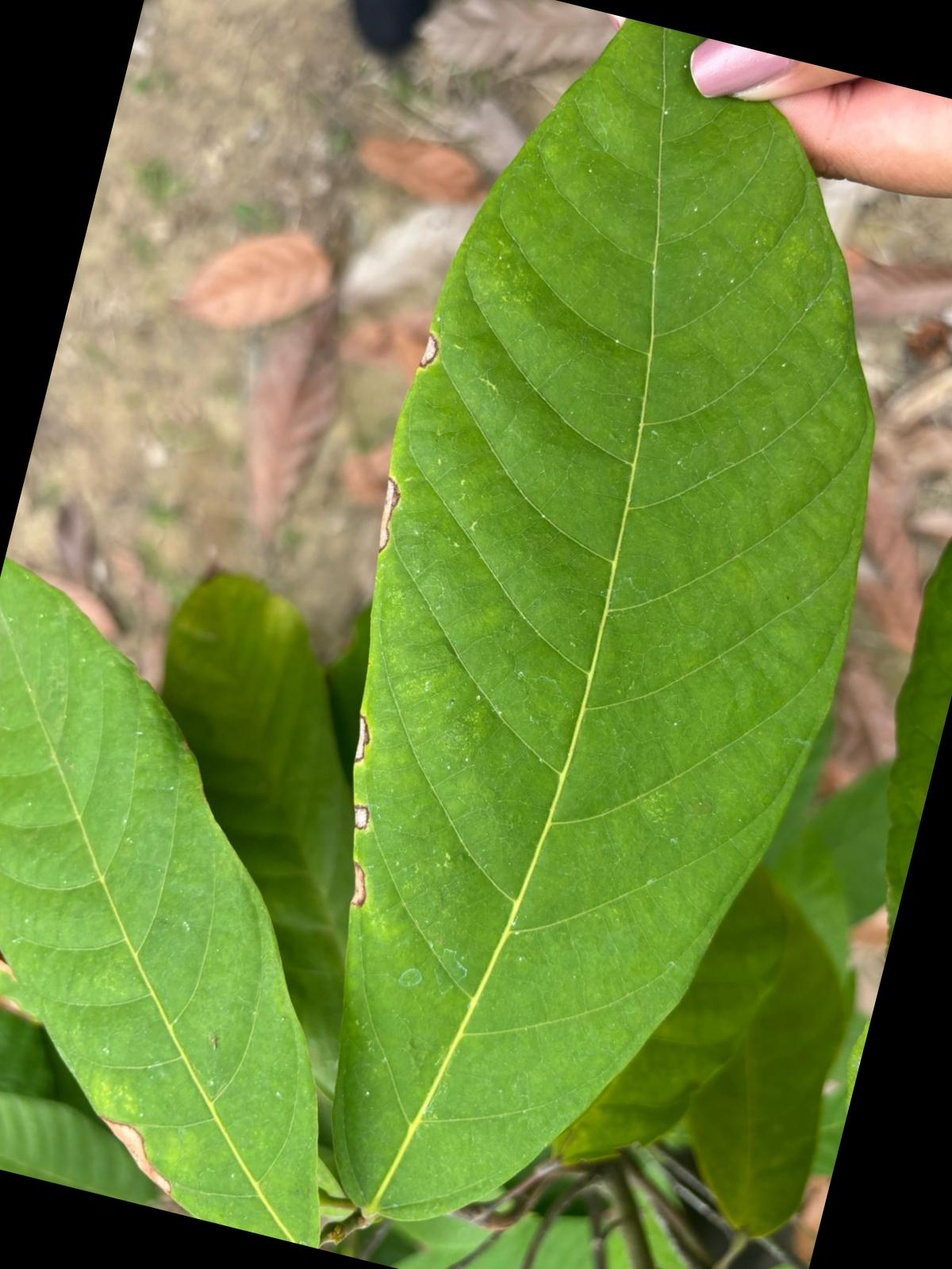Potasio: (333, 20, 872, 1220)
